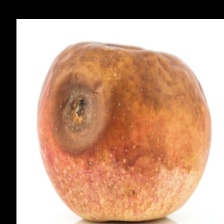apple: (53, 13, 204, 195)
